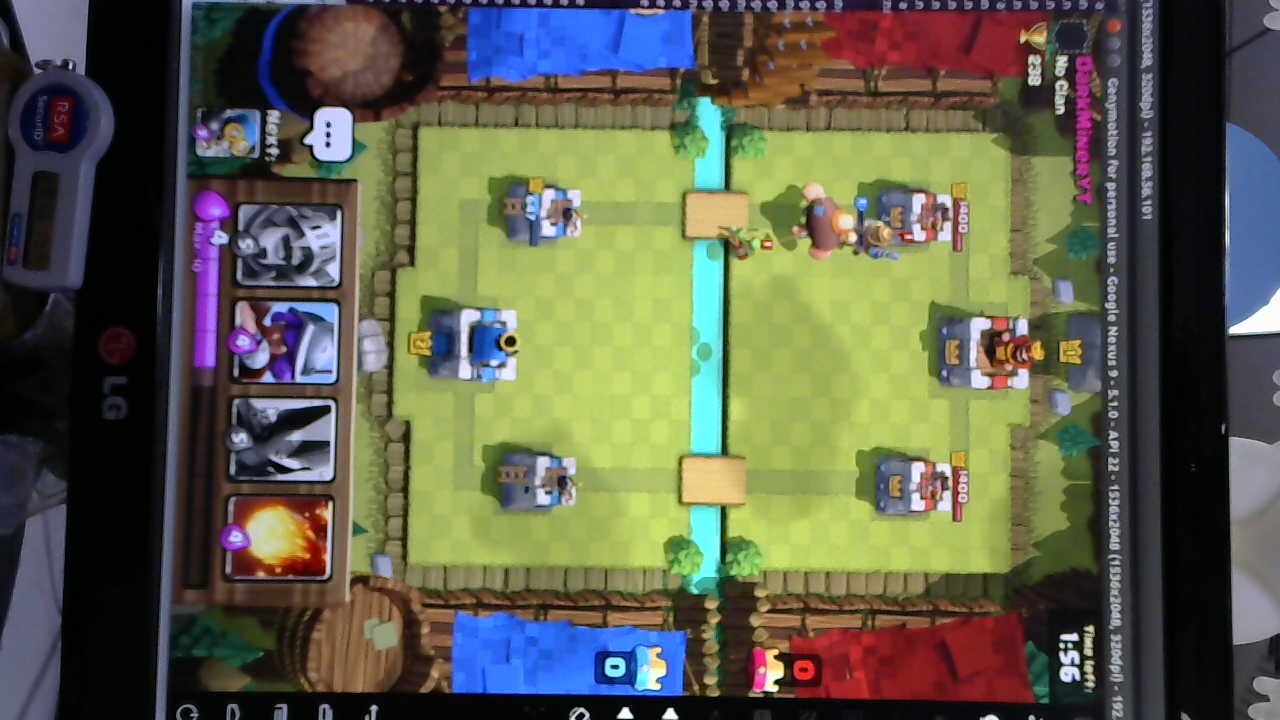arena: (500, 183, 585, 246), (500, 447, 579, 512)
earena: (873, 454, 956, 518), (877, 185, 954, 247)
eking: (940, 314, 1041, 393)
giant: (794, 182, 853, 260)
king: (438, 304, 522, 386)
prince: (844, 215, 898, 267)
speargoblin: (720, 226, 777, 260)
